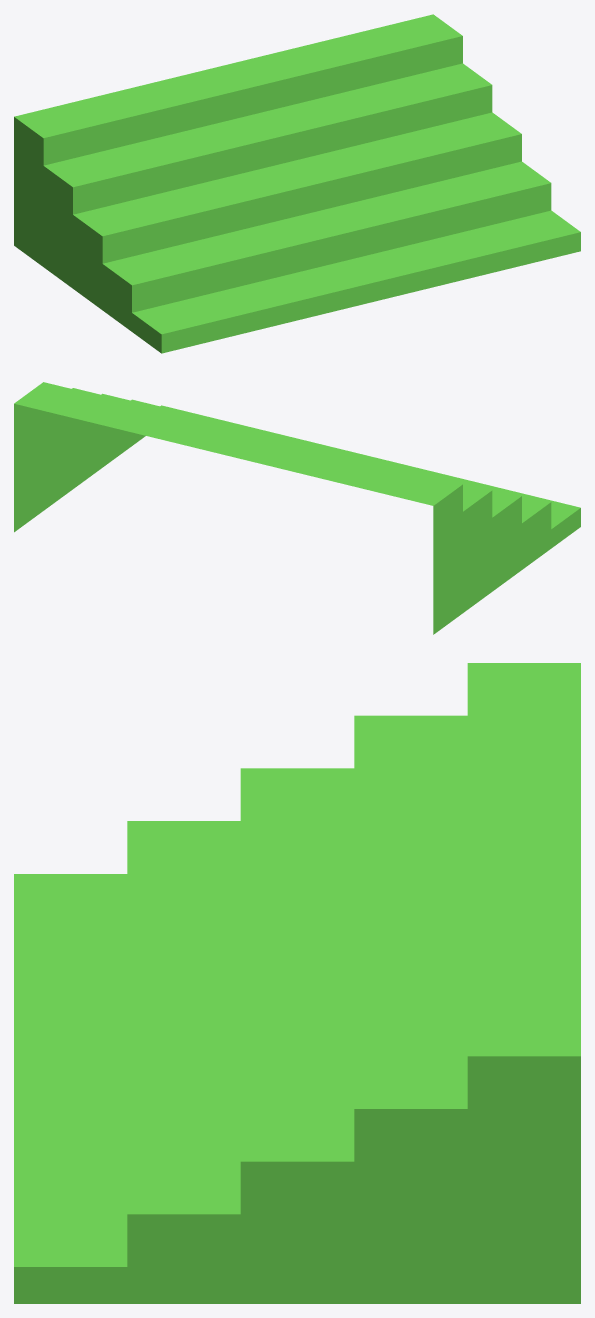
The model's file is SM_ej_stairs002.fbx.
3 views of the same model, one above another, from view 1: azimuth 30°, elevation 25°; view 2: azimuth 150°, elevation 25°; view 3: azimuth 270°, elevation 25° (orthographic). The views are drawn at different scales.
Parts seen in each view (by area): view 1: down_low; view 2: down_low; view 3: down_low.
Part boxes in pixels (left/top/right/bottom): down_low: left=14, top=14, right=580, bottom=353; down_low: left=14, top=382, right=580, bottom=634; down_low: left=14, top=663, right=580, bottom=1303.
Size of the model in its own units: 320 by 94 by 195.
